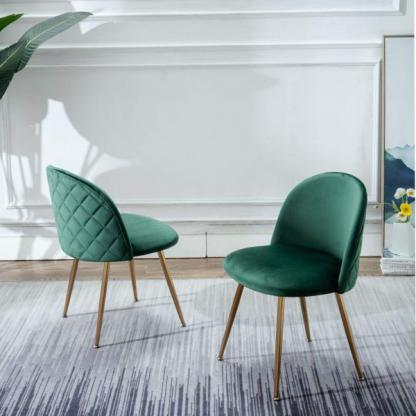chair: (215, 169, 377, 404), (37, 162, 199, 354)
